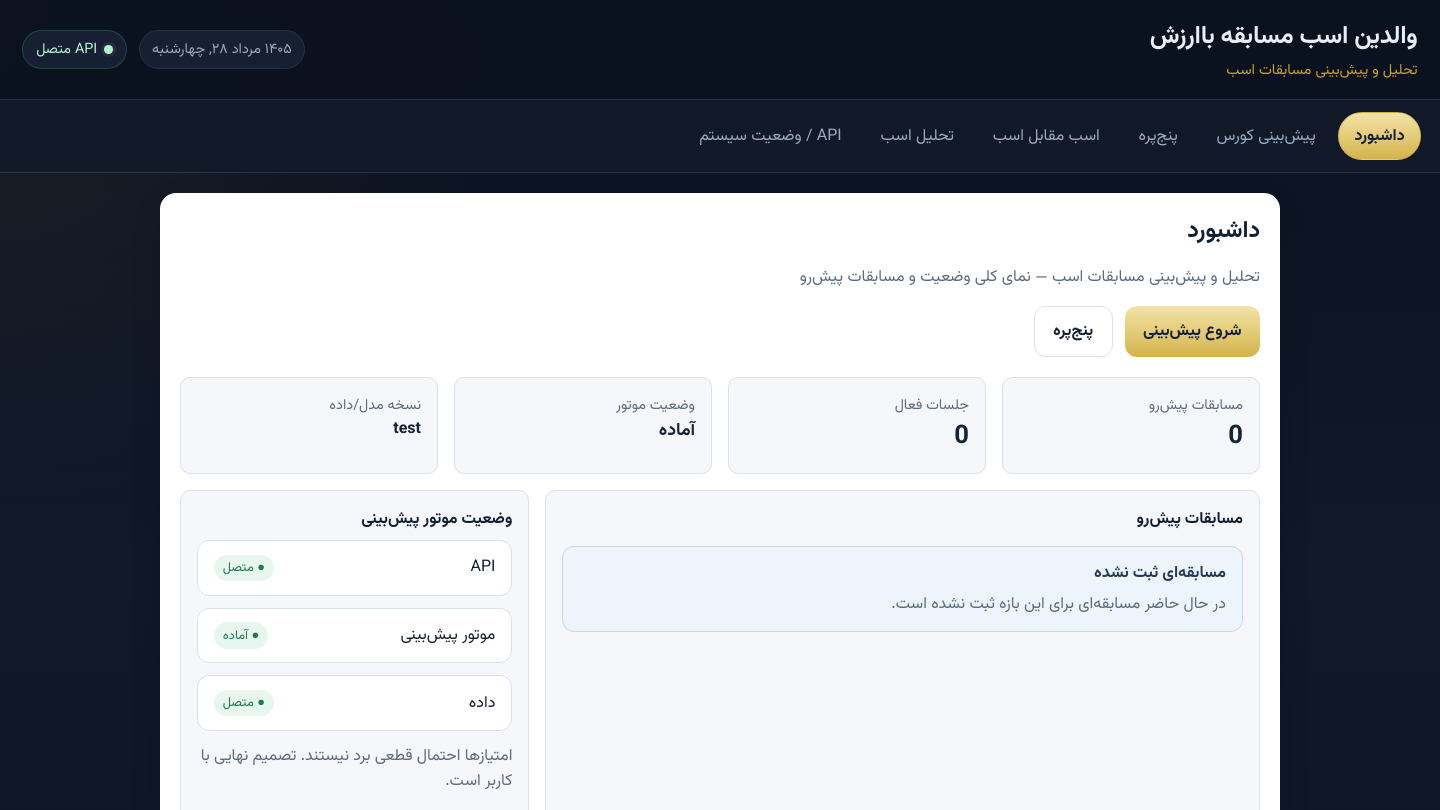
Test: App dashboard › supports horse search and analysis
Click the button "تحلیل اسب" at (917, 136), box [864,112,970,160]
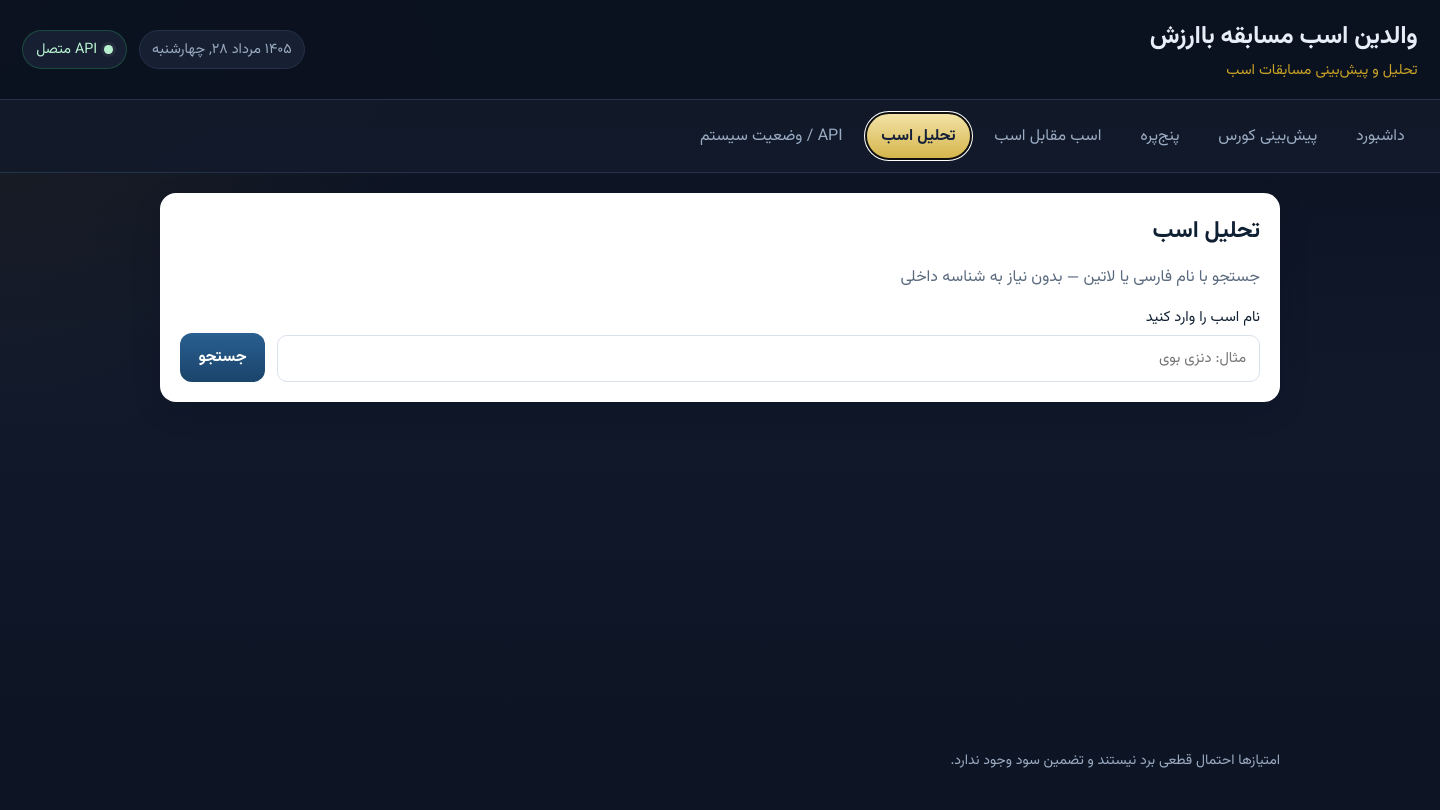
Type "دنزی" into the search field labelled "نام اسب را وارد کنید" at (768, 358), box [277,335,1260,382]
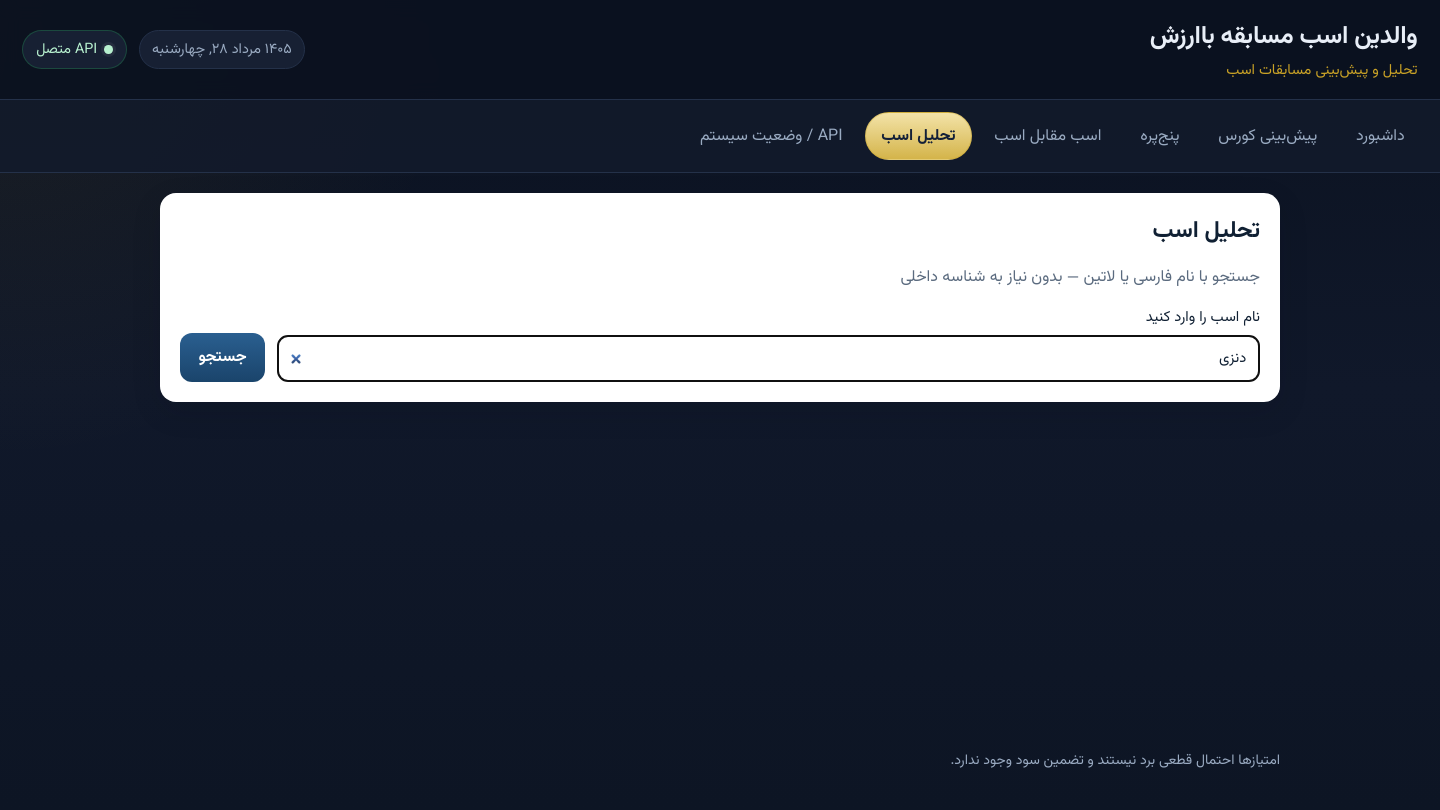
Click the button "جستجو" at (222, 358), box [180,333,265,382]
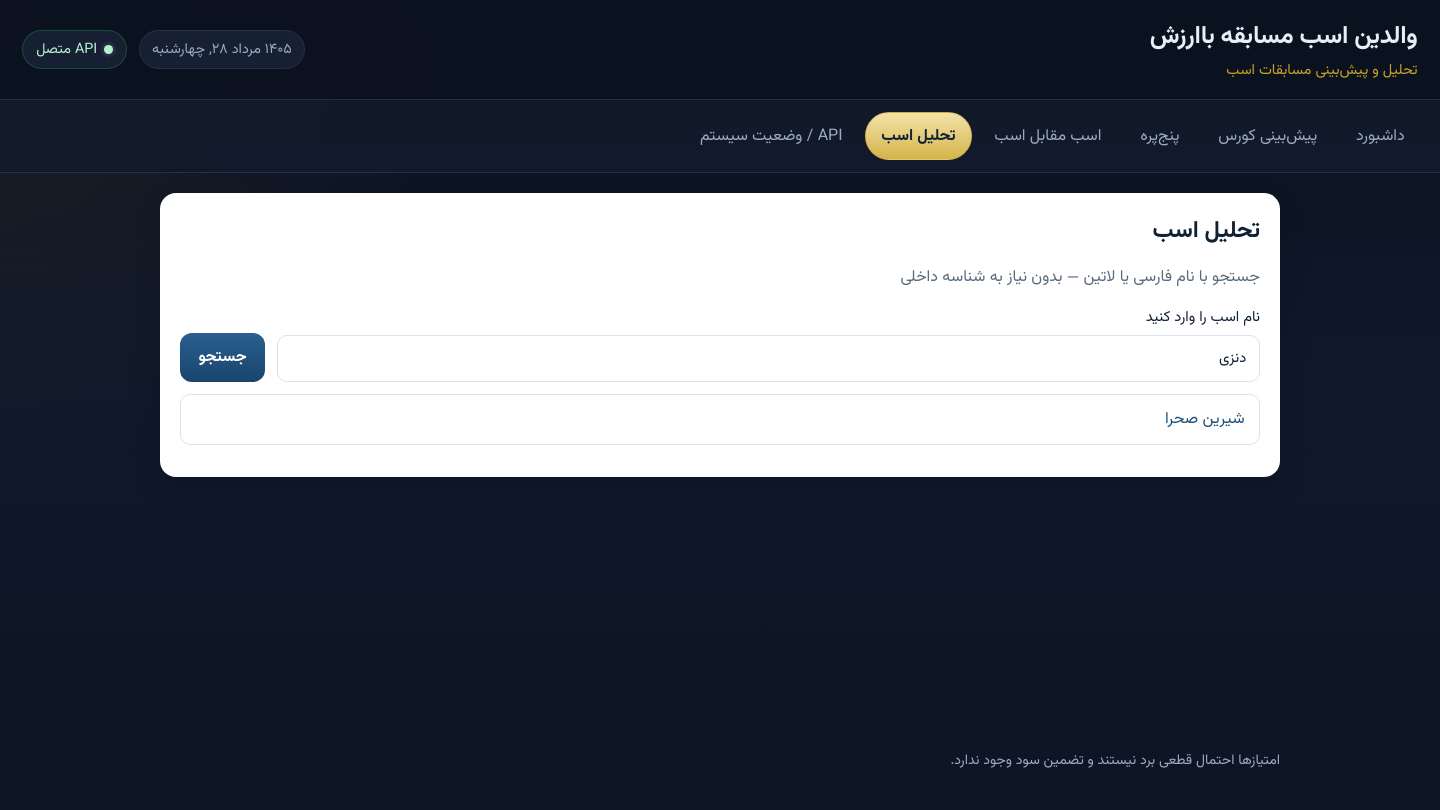
Click the button "شیرین صحرا" at (1205, 420), box [180,394,1260,445]
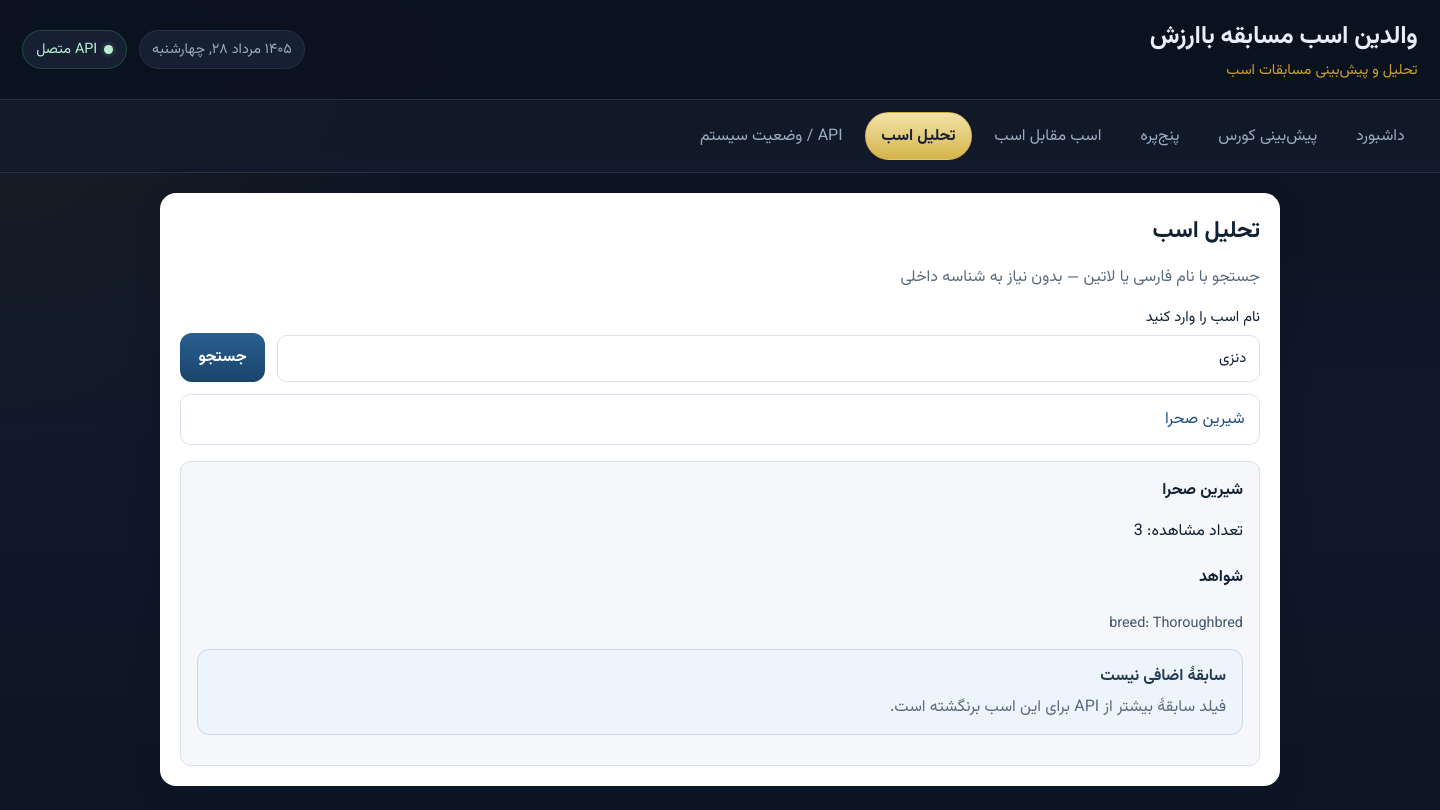
Expected: the text "تعداد مشاهده: 3" is shown, [1134,519,1243,544]
